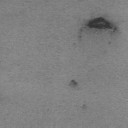iron sheet ash: (87, 16, 117, 32)
